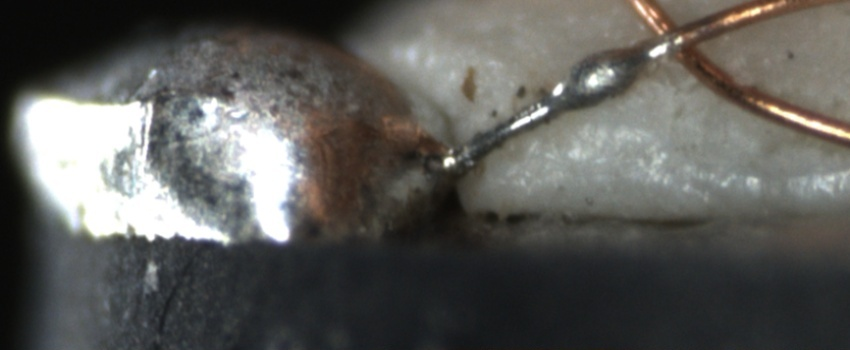CL: (635, 9, 719, 77)
TB: (571, 46, 651, 109)
TS: (463, 32, 683, 160)
TTCW: (440, 9, 733, 179)
